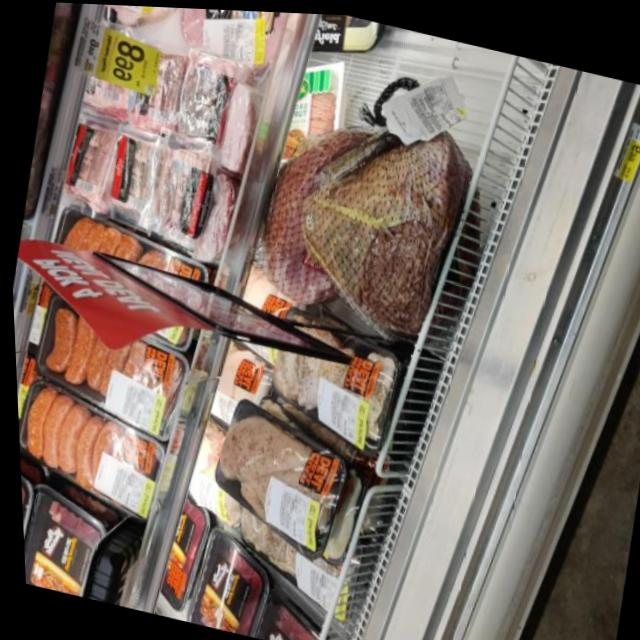Meat: (278, 75, 507, 354), (52, 113, 241, 268), (195, 392, 355, 562), (25, 295, 191, 444), (256, 307, 414, 463), (13, 379, 168, 519), (219, 492, 360, 620), (126, 47, 260, 159), (166, 6, 300, 89), (177, 522, 273, 637), (17, 491, 104, 599)
